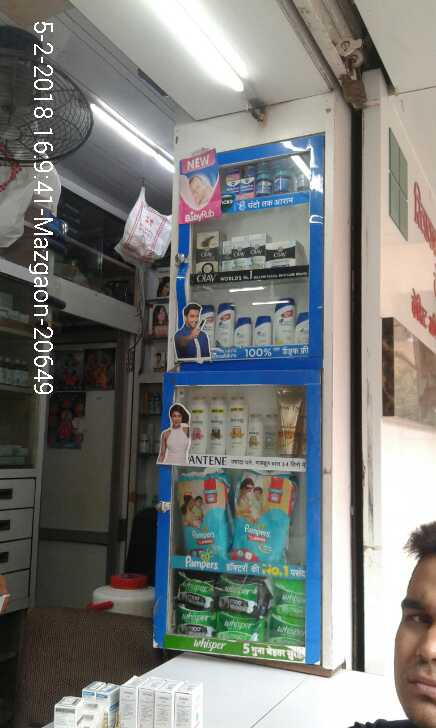beauty: (277, 391, 301, 457), (226, 397, 249, 455), (186, 396, 208, 453), (207, 397, 226, 455), (193, 234, 220, 274), (272, 296, 292, 347), (219, 237, 246, 270), (215, 301, 232, 349), (263, 240, 296, 264), (249, 309, 269, 347), (231, 315, 249, 349), (247, 413, 262, 453), (246, 238, 262, 272)
pharmacy: (230, 470, 294, 565), (175, 458, 225, 557), (173, 566, 218, 607), (218, 606, 268, 642), (167, 604, 217, 639), (264, 612, 309, 649), (223, 573, 262, 614), (266, 584, 308, 617), (226, 174, 252, 196), (253, 170, 270, 193), (274, 163, 289, 188)
